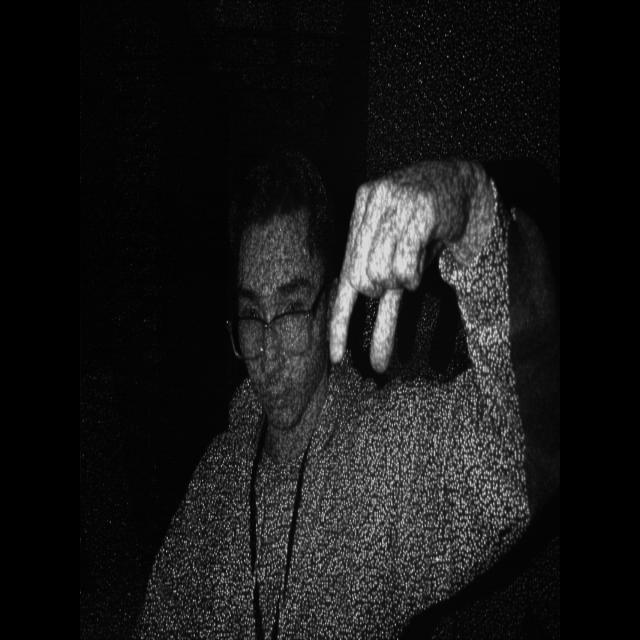Q: (325, 139, 492, 386)
